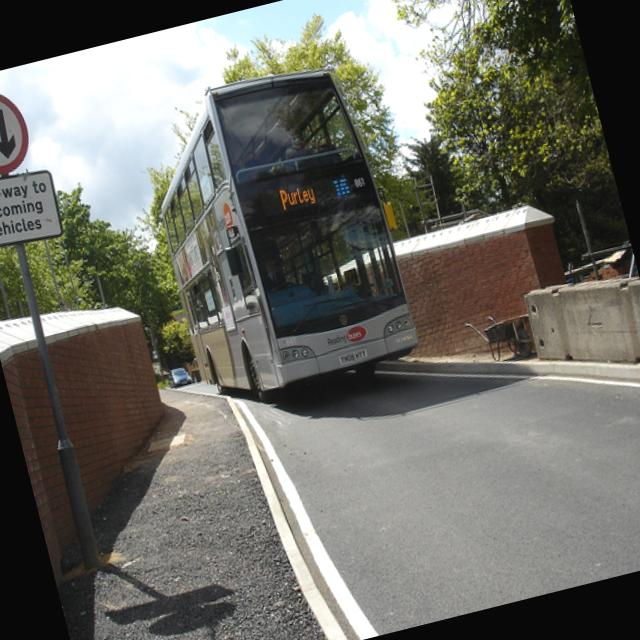Vehicle: (130, 52, 433, 423), (165, 365, 192, 389)
